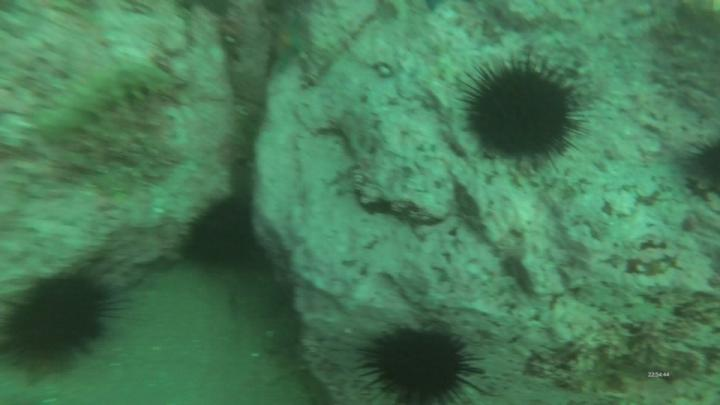echinus: (470, 65, 575, 158), (7, 280, 103, 372), (366, 329, 471, 403), (185, 202, 256, 266)
holothurian: (34, 63, 171, 139)
scallop: (252, 352, 262, 360), (151, 346, 160, 351)
starfish: (276, 17, 305, 71)
